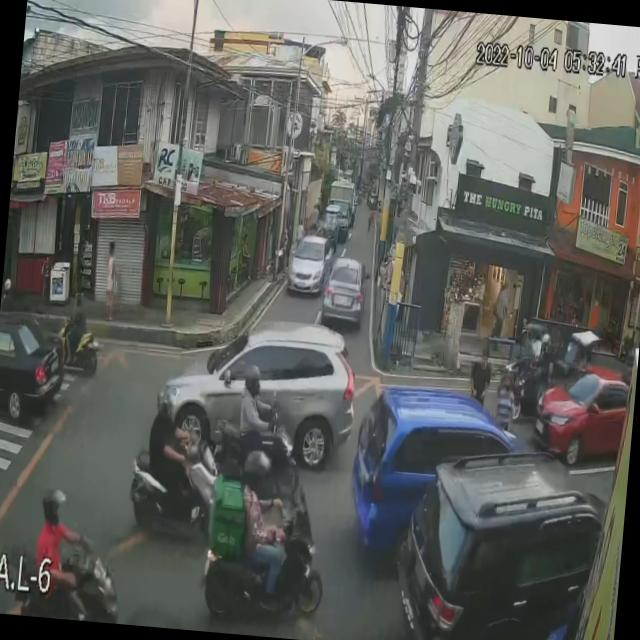full: (242, 446, 272, 492), (39, 488, 66, 528), (154, 381, 180, 421), (241, 363, 263, 398)
